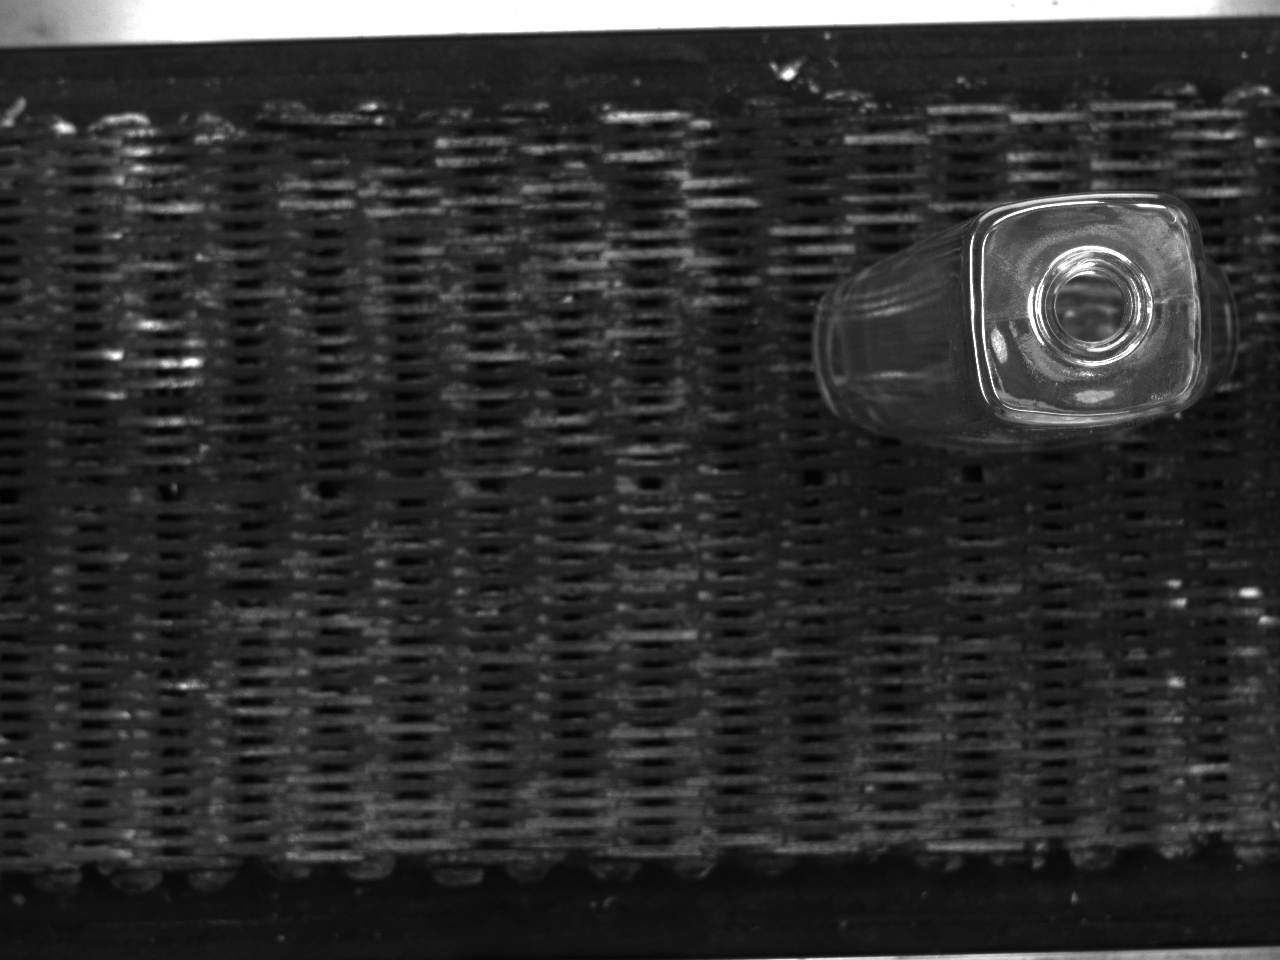bottleneck: (1032, 246, 1154, 367)
